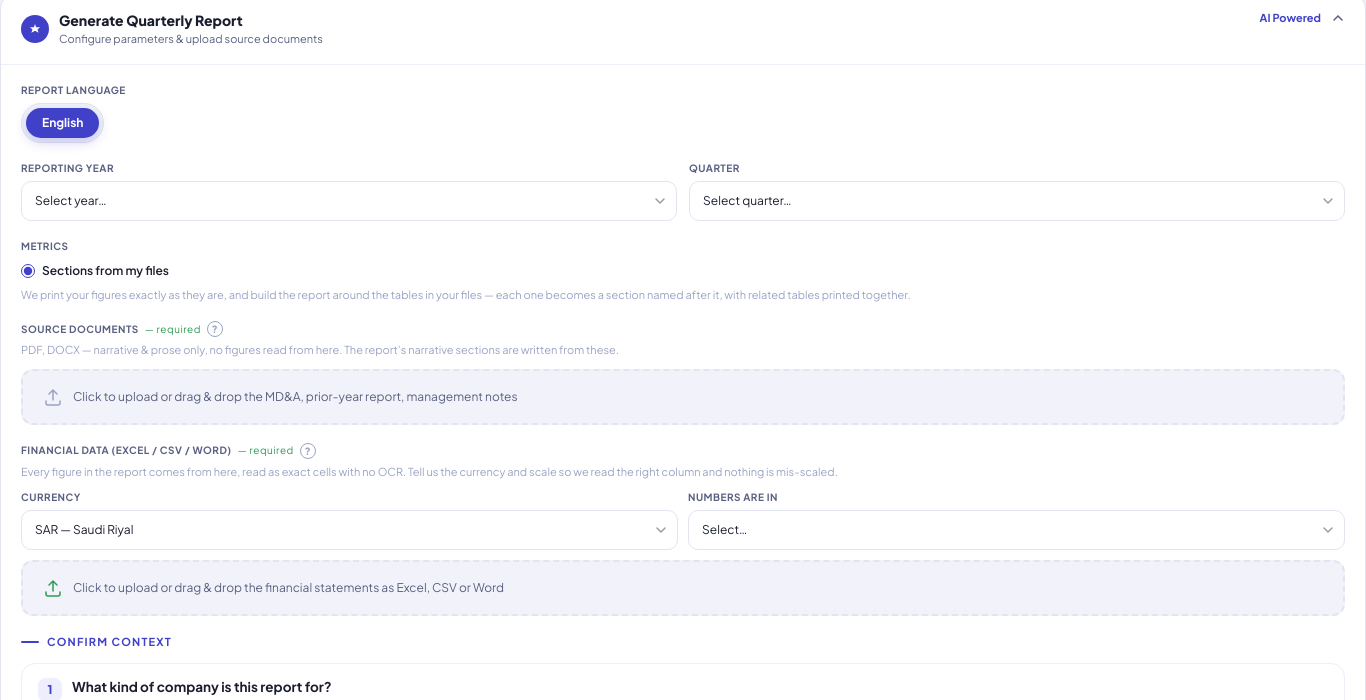
Scenario: cross-metrics comparison warning › explains that the prior period's data is the other metrics type
Step 1. Select "2026" in the 1st dropdown → x=349, y=200, box [21,180,677,220]
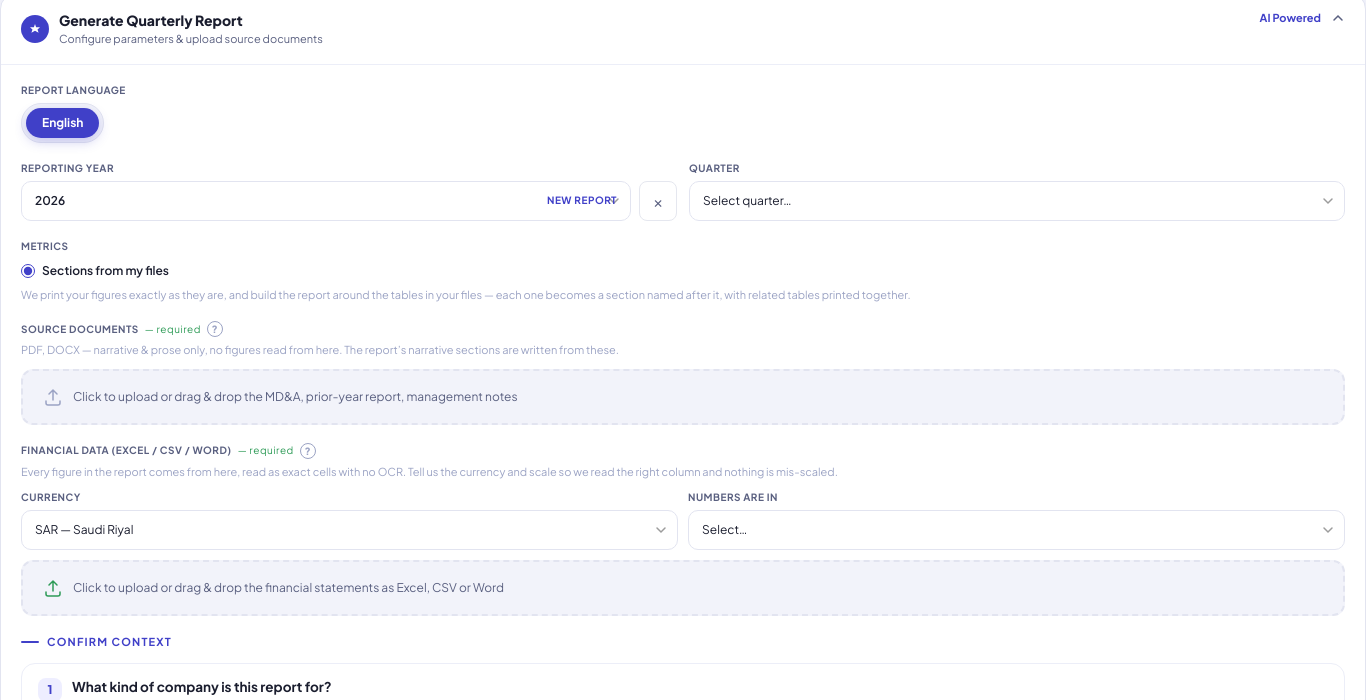
Step 2. Select "Q2" in the 1st dropdown → x=1017, y=200, box [689,180,1345,220]
(page scrolled)
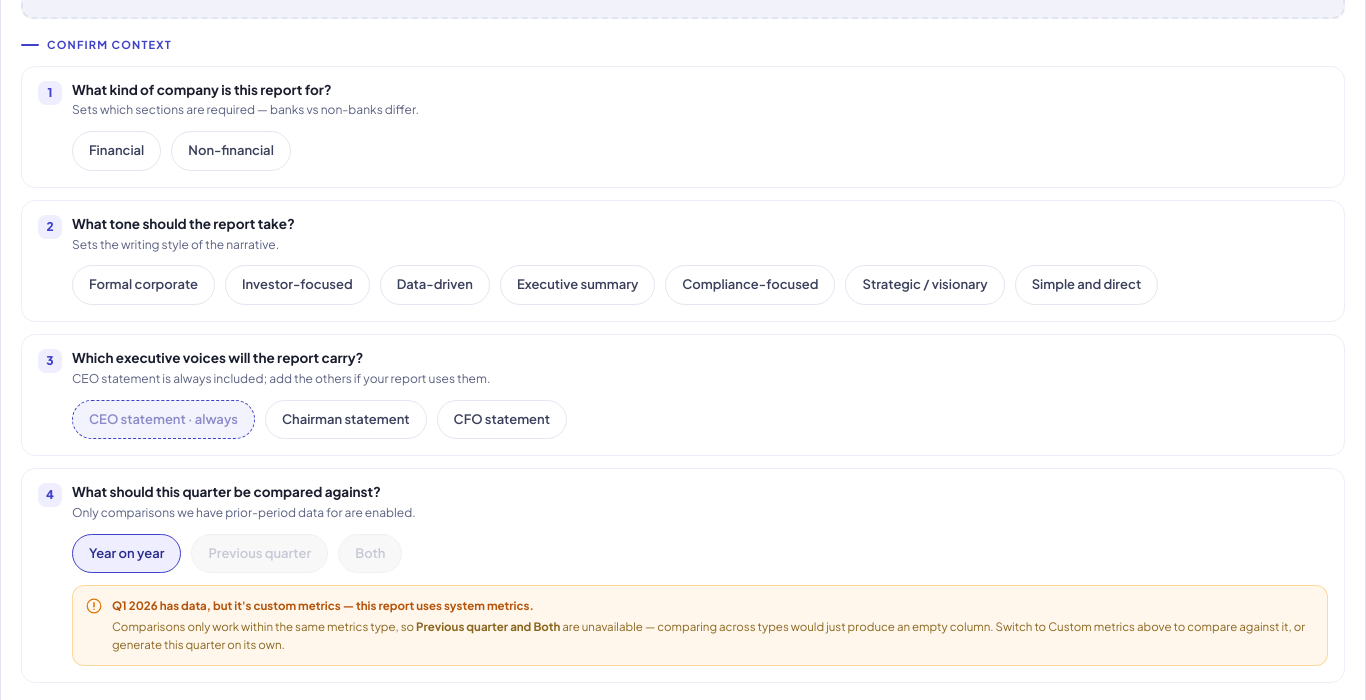
Check: the element that starts with "Q1 2026" shows "Q1 2026 has data", box [72,585,1328,666]
Check: the element that starts with "Q1 2026" shows "it's custom metrics", box [72,585,1328,666]
Check: the element that starts with "Q1 2026" shows "this report uses system metrics", box [72,585,1328,666]
